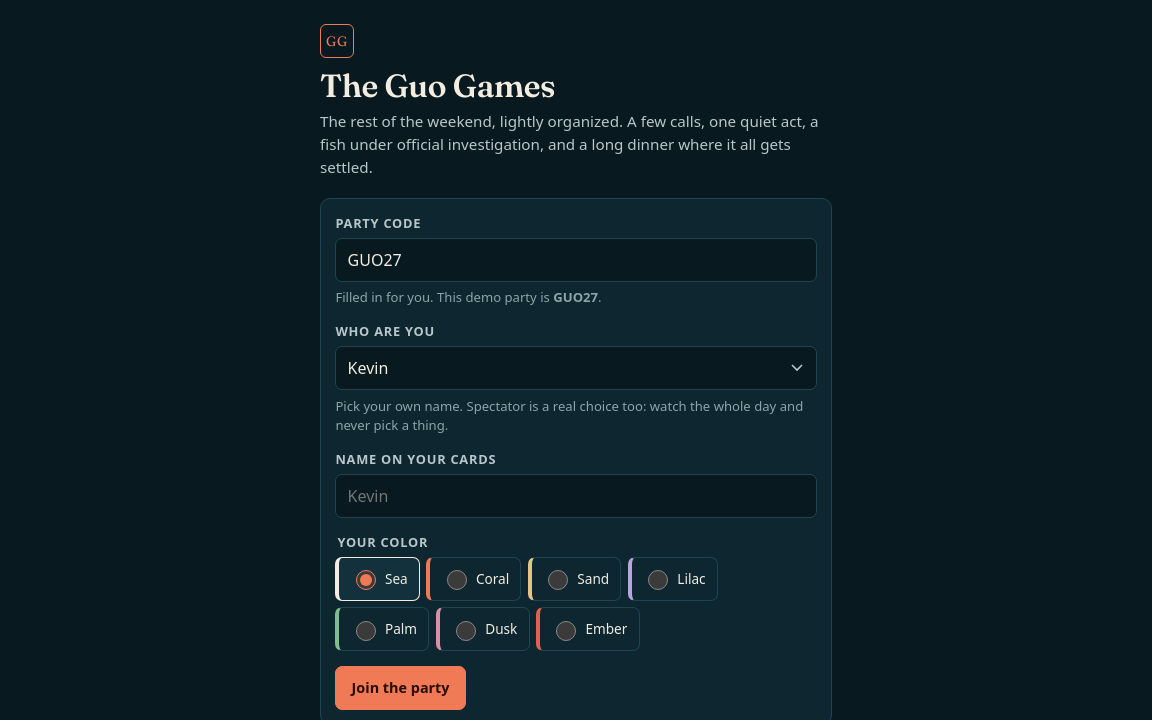
Test: keeps a card link from the group chat through the join, and opens the Bench there
Select "Deniz (organizer)" in the dropdown labelled "Who are you". click: point(576, 368)
box: [335, 346, 817, 390]
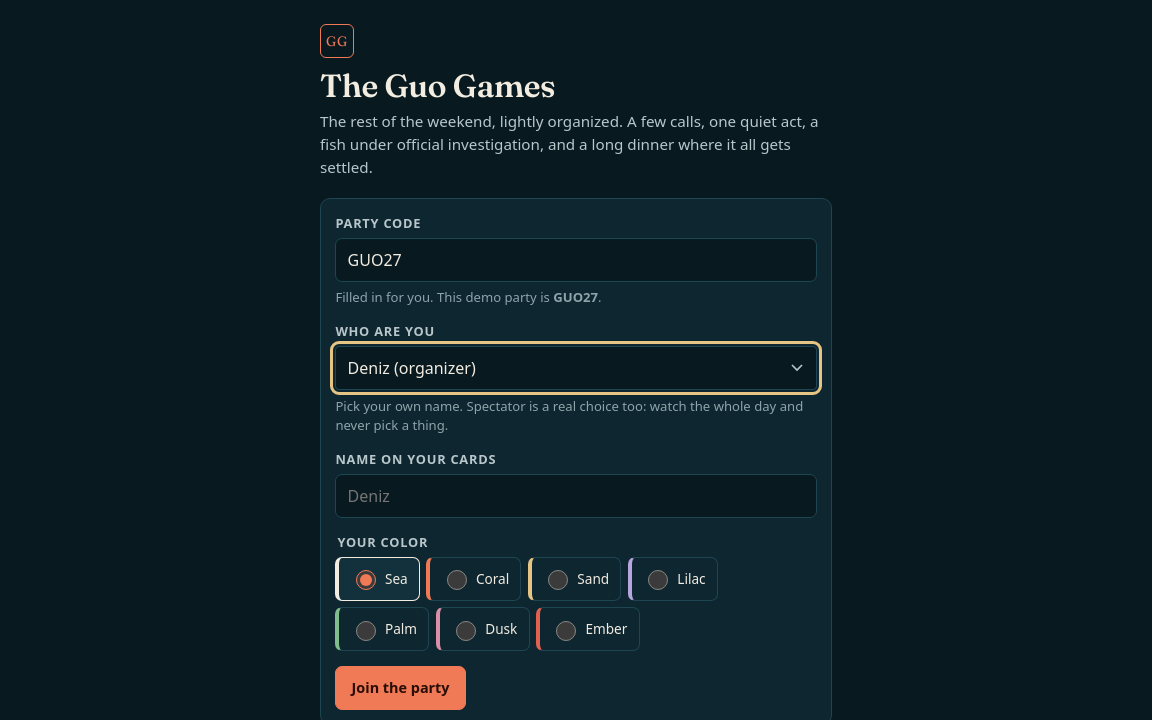
Click the button "Join the party". click: point(401, 688)
box: [335, 666, 466, 710]
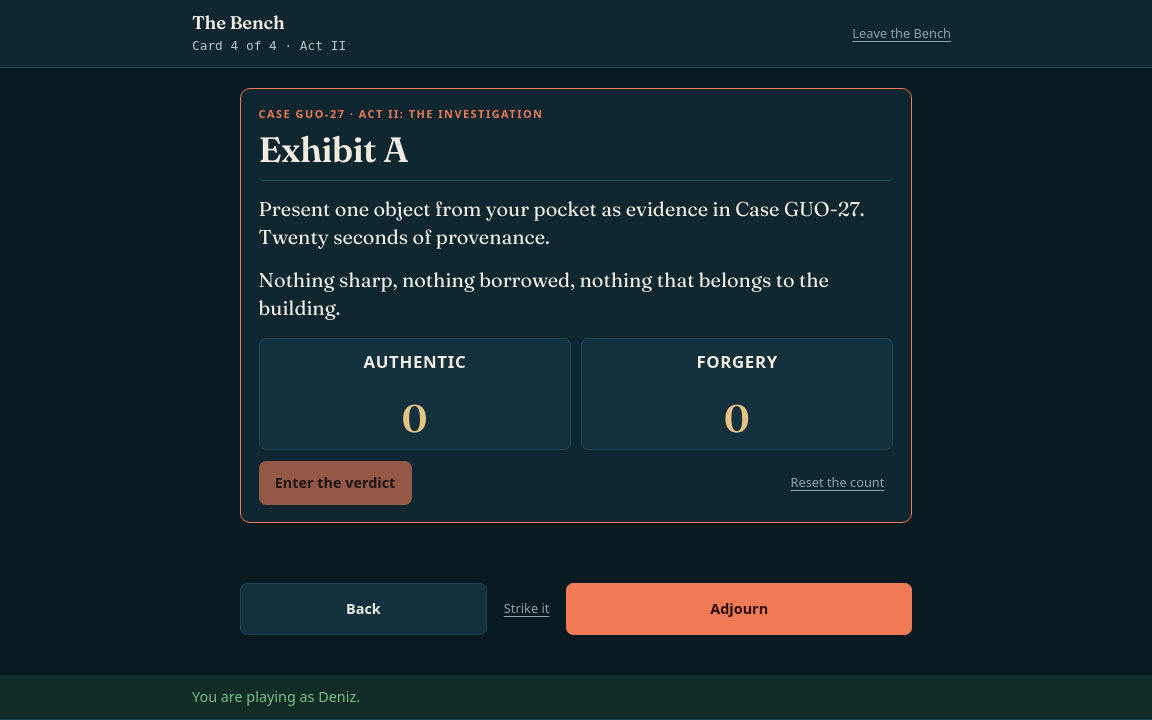
Expected: the heading "The Bench" is shown, [192, 11, 284, 34]
Expected: the heading "Exhibit A" is shown, [259, 130, 893, 181]
Expected: the text "Card 4 of 4 · Act II" is shown, [192, 36, 346, 55]
